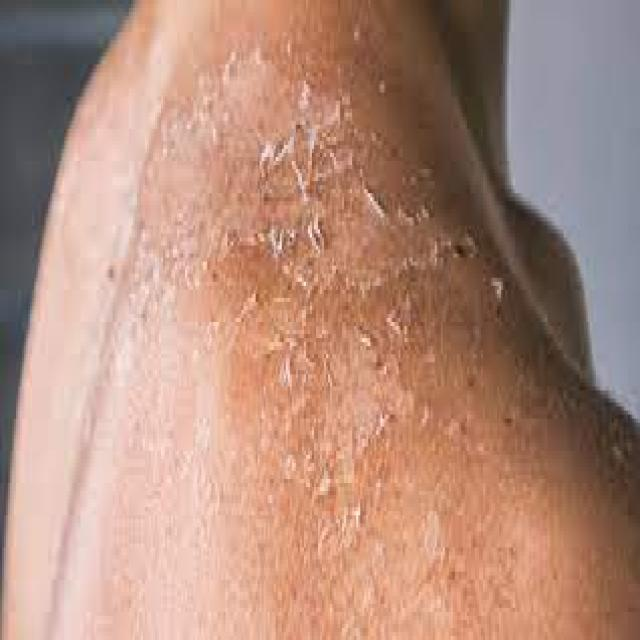Dry-Skin: (249, 192, 302, 326), (193, 50, 249, 140), (284, 77, 323, 206), (346, 352, 398, 431), (356, 213, 408, 263)
